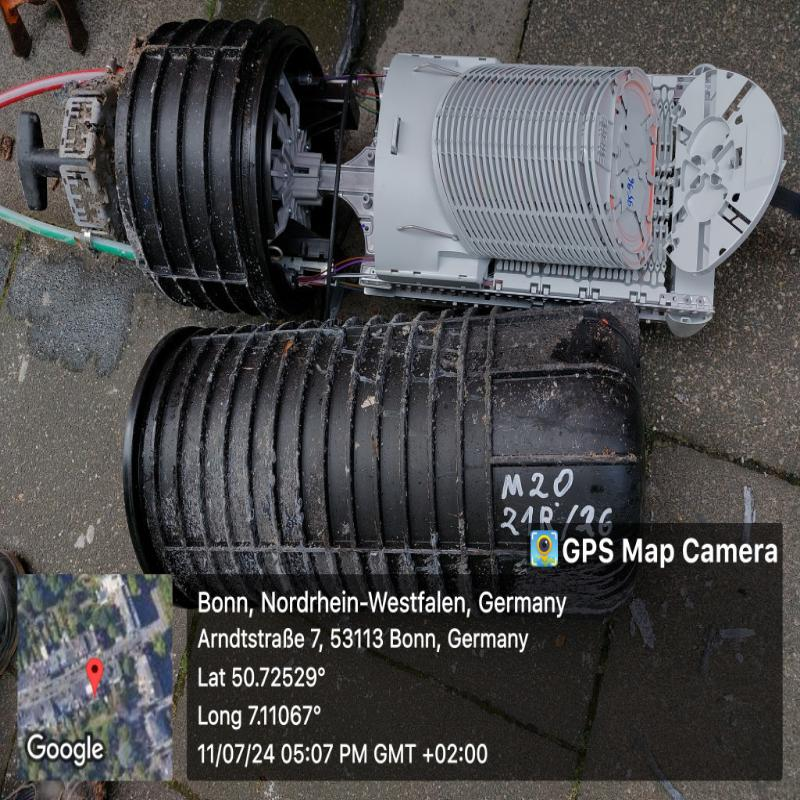NT-Muffen: (75, 21, 794, 530)
